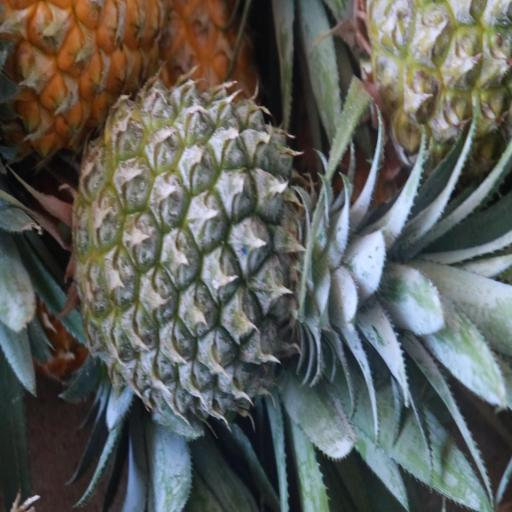Pineapple - v8 v1: (1, 0, 166, 159)
